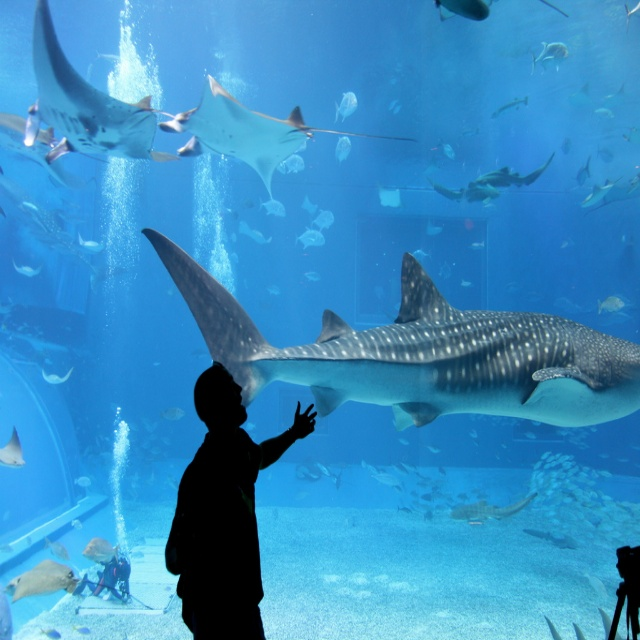Shark: (144, 231, 638, 433)
